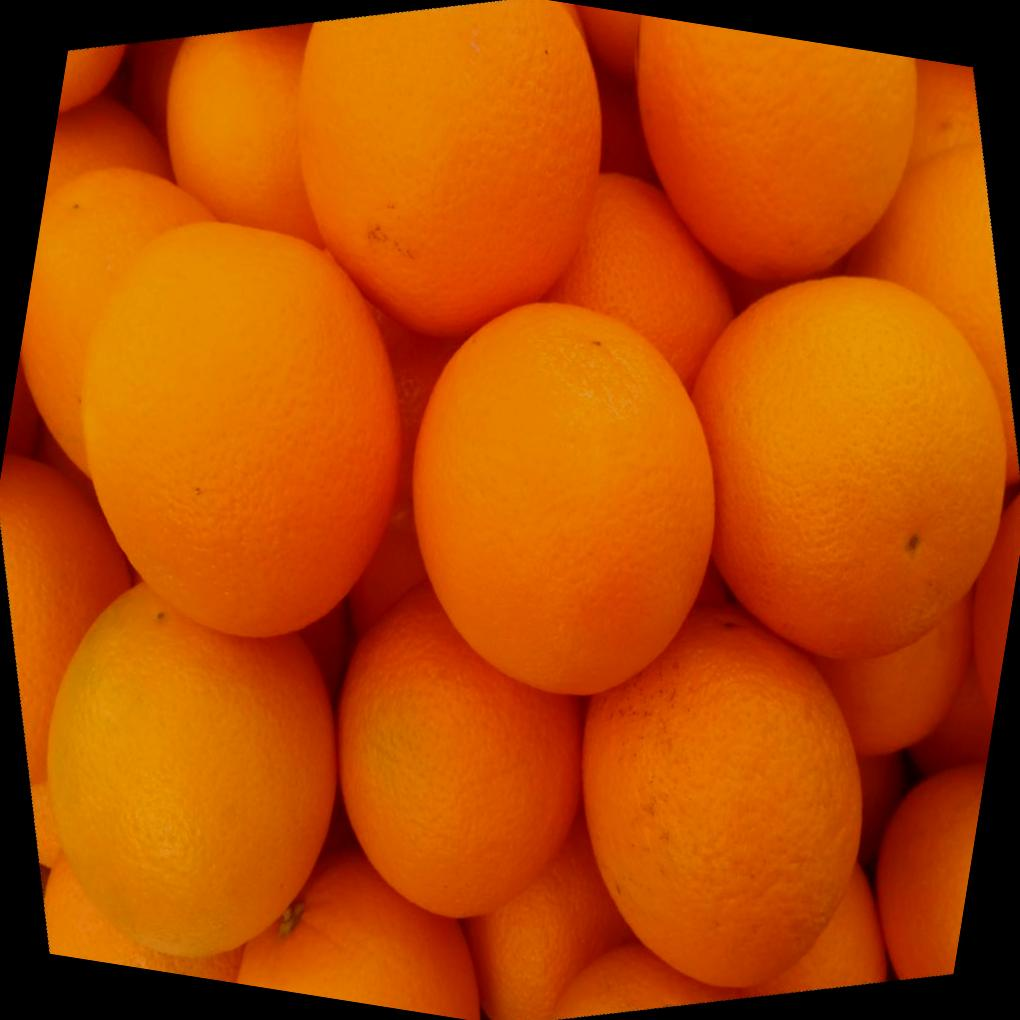FreshGuava: (0, 0, 1018, 1020)
